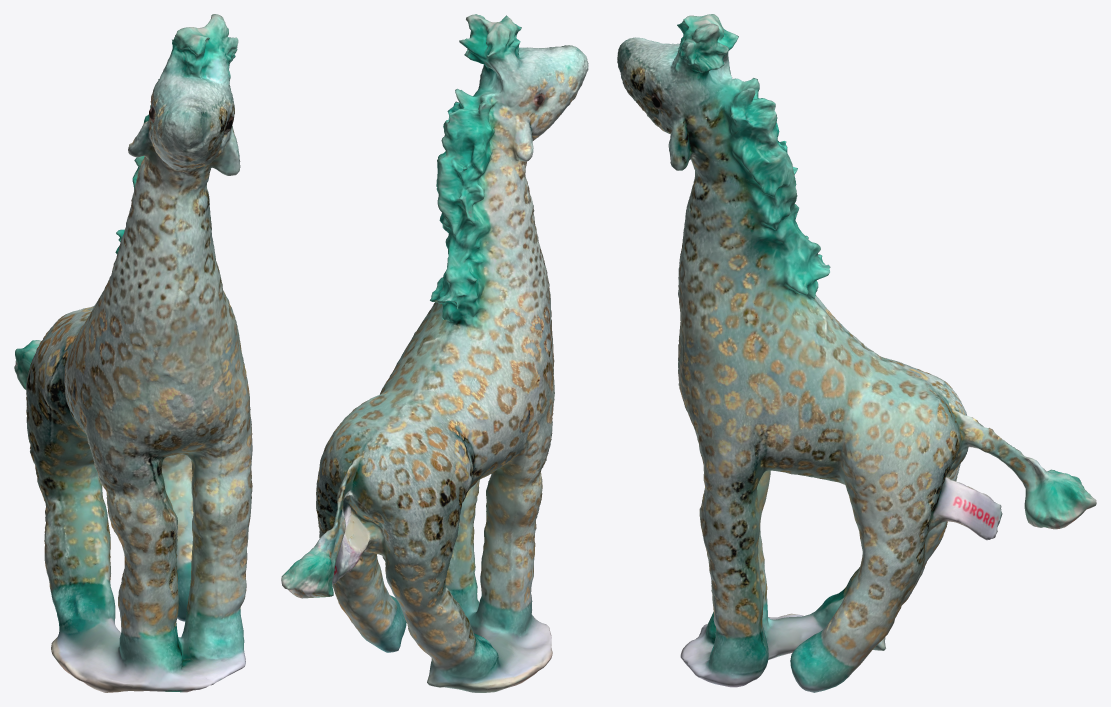
Rendered from giwaffe.fbx.
The picture shows the model from 3 angles, left to right: view 1: azimuth 30°, elevation 25°; view 2: azimuth 150°, elevation 25°; view 3: azimuth 270°, elevation 25°; orthographic projection. The views are drawn at different scales.
Visible parts, largest first — view 1: textured; view 2: textured; view 3: textured.
Boxes of the visible parts, x1,y1,x2,y2 form: textured: (14, 14, 252, 692); textured: (281, 14, 588, 692); textured: (617, 14, 1096, 692).
Size of the model in its own units: 72.19 by 255 by 168.
